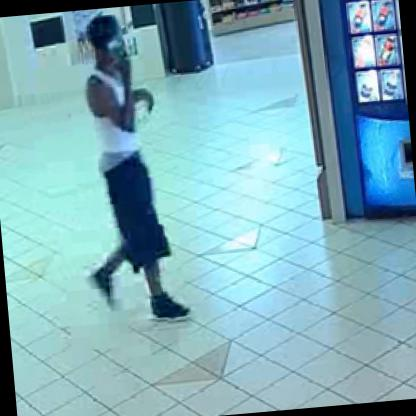Human Body: (64, 9, 191, 326)
